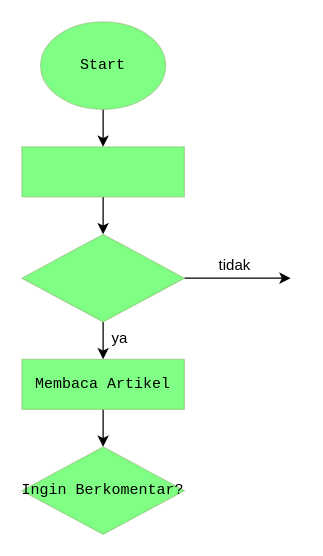
Some shapes in this 323 by 556 pixel diagram are drawn without their labels. The shapes that lost their labels are listed below. From the top down, each one's centre as x and y in pixels, then its label:
At (102,171): "Akses Website".
At (102,277): "Memilih Artikel untuk dibaca?".
